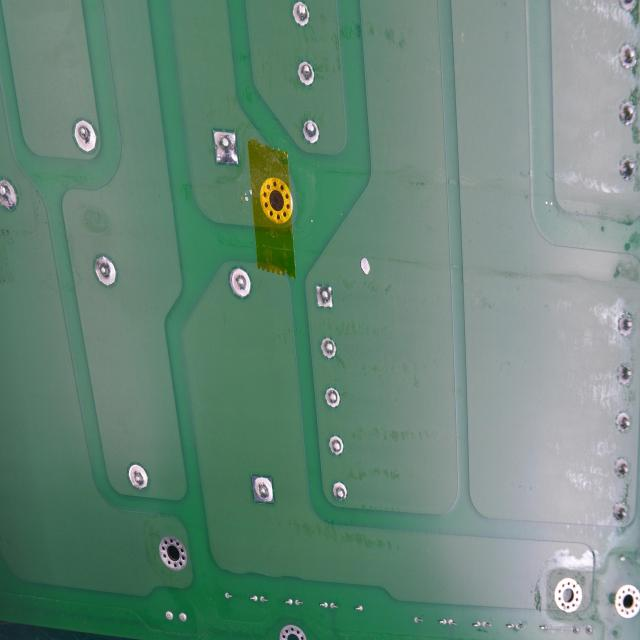spillover: (359, 252, 371, 278), (241, 187, 252, 203)
